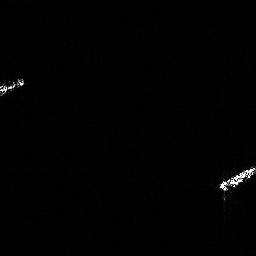ship: (215, 161, 256, 194), (1, 74, 27, 98)
